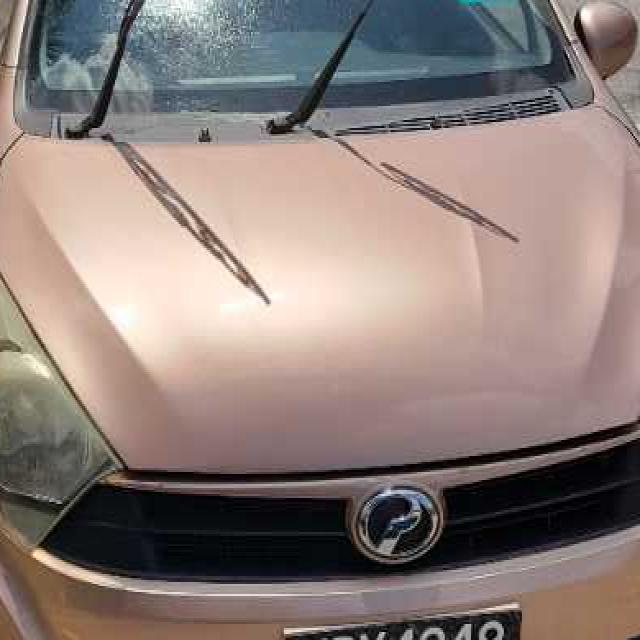car-plate: (266, 574, 544, 640)
